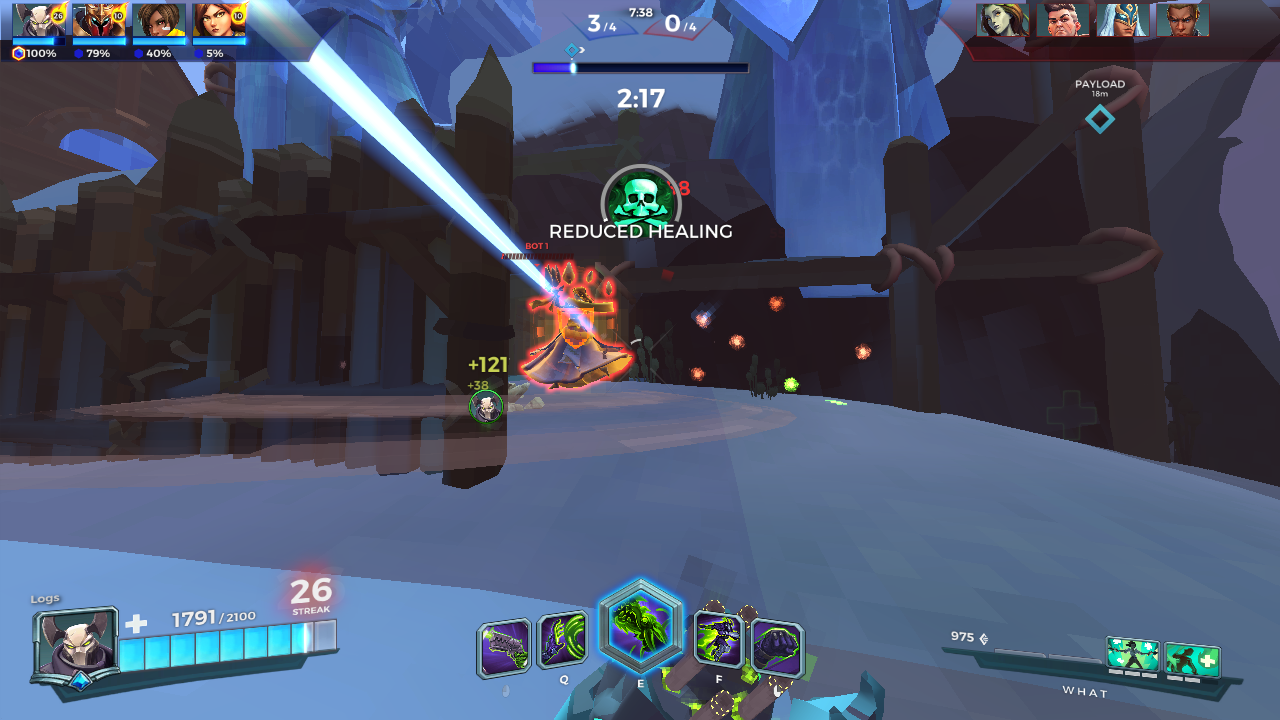model: (542, 282, 606, 394)
